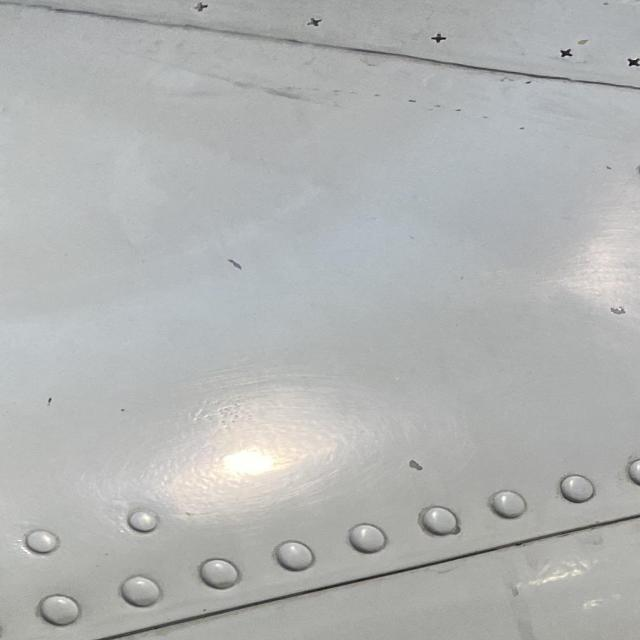Paint-off: (605, 302, 639, 318), (407, 457, 427, 470), (224, 256, 243, 268)
